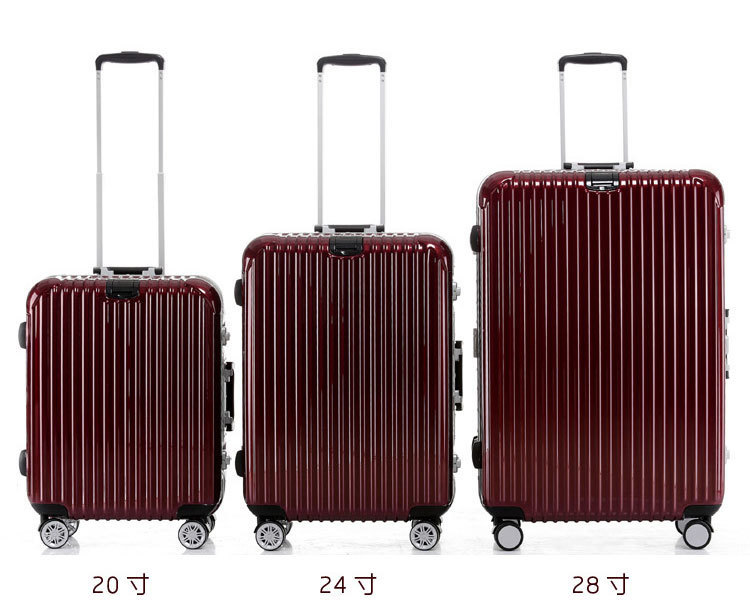luggage: (470, 53, 728, 552), (234, 51, 463, 550), (18, 49, 236, 552)
